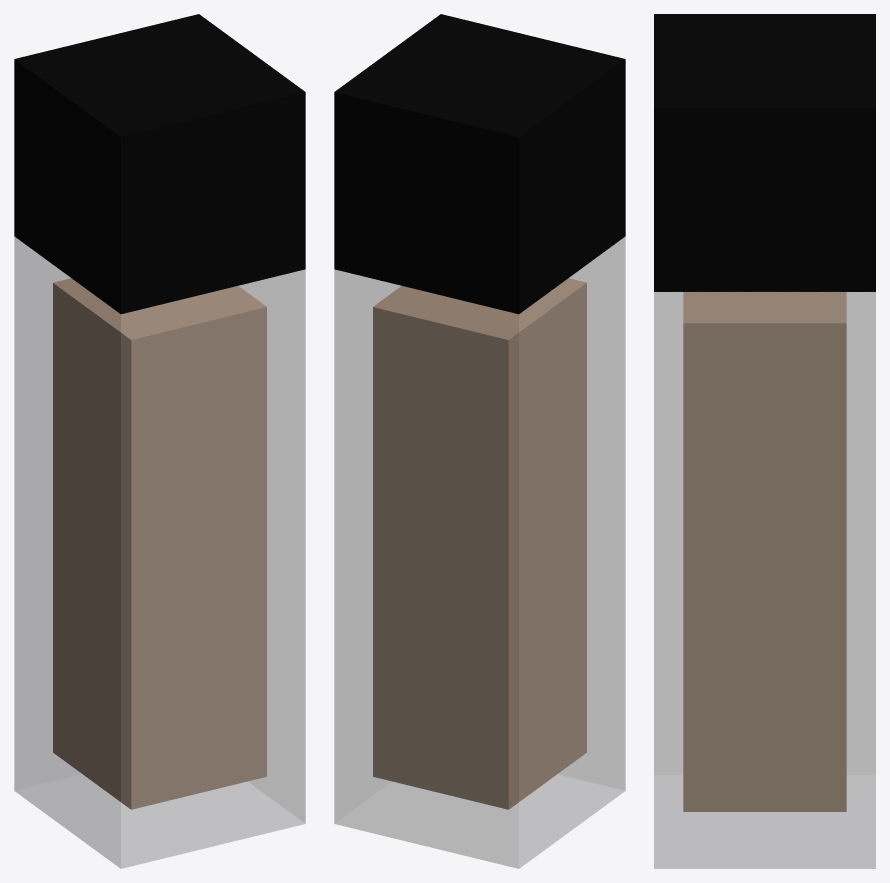
The model's file is foundation.fbx.
The picture shows the model from 3 angles, left to right: view 1: azimuth 30°, elevation 25°; view 2: azimuth 150°, elevation 25°; view 3: azimuth 270°, elevation 25°; orthographic projection. The views are drawn at different scales.
Visible parts, largest first — view 1: pCube22; view 2: pCube22; view 3: pCube22.
Boxes of the visible parts, x1,y1,x2,y2 form: pCube22: [14, 14, 305, 868]; pCube22: [334, 14, 625, 868]; pCube22: [654, 14, 875, 868].
Size of the model in its own units: 0.4595 by 1.74 by 0.4595.
